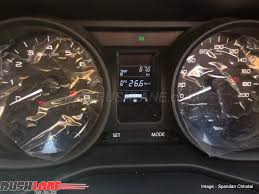Digital_Meter: (119, 77, 156, 89)
